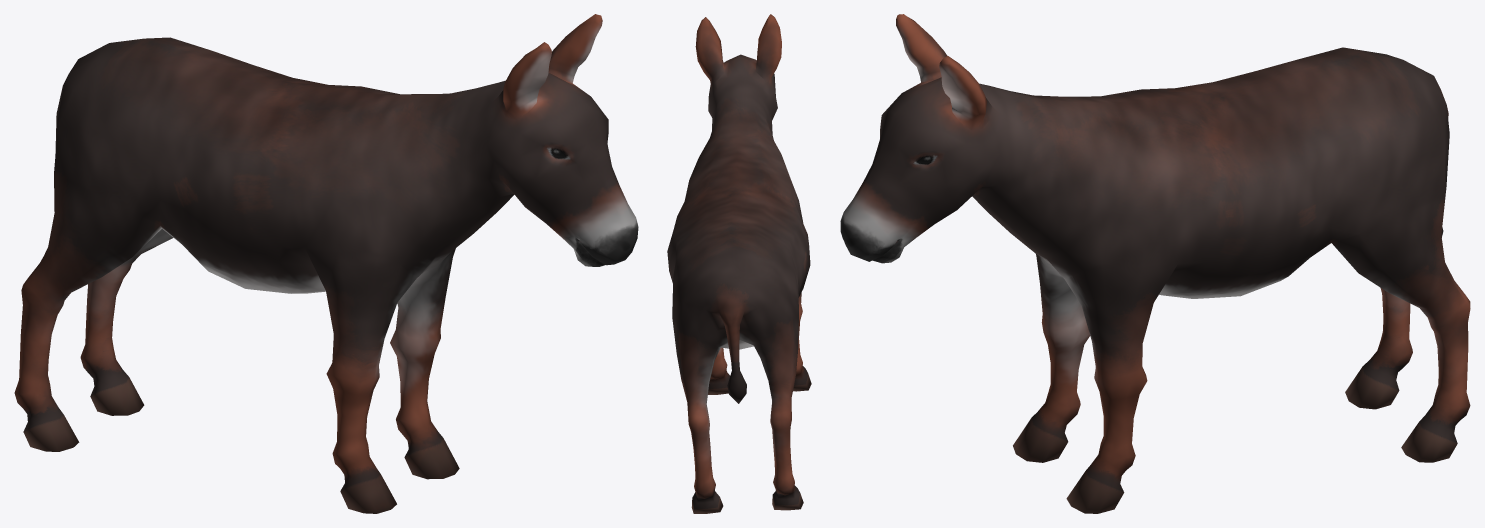
Rendered from burro.obj.
3 renders of one model, left to right at view 1: azimuth 30°, elevation 25°; view 2: azimuth 150°, elevation 25°; view 3: azimuth 270°, elevation 25°, orthographic. The views are drawn at different scales.
Visible parts, largest first — view 1: Donkey; view 2: Donkey; view 3: Donkey.
Boxes of the visible parts, box(x1,y1,x2,y2) form: Donkey: box(14, 14, 638, 513); Donkey: box(667, 14, 811, 513); Donkey: box(840, 14, 1470, 513).
Bounding box in the file's own units: 1.11 × 1.52 × 1.67.
1 material, 1 textured.
